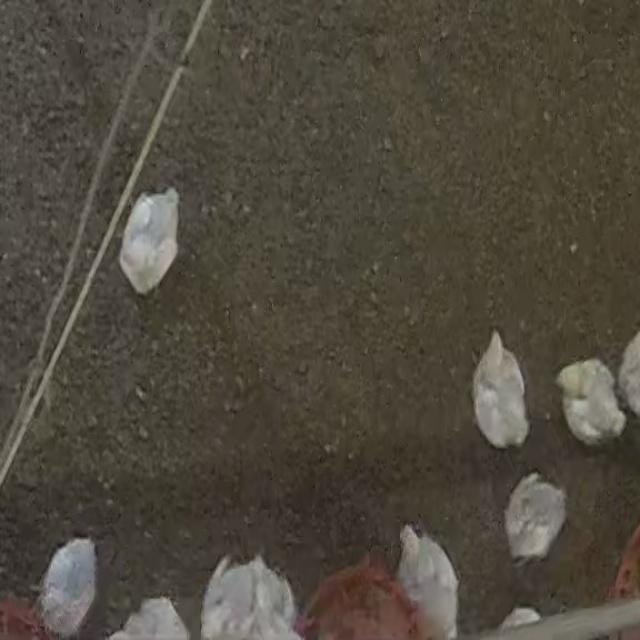chicken: (472, 333, 531, 451), (128, 185, 186, 297), (548, 358, 617, 450), (35, 539, 101, 632), (408, 524, 462, 630), (505, 475, 571, 558)
